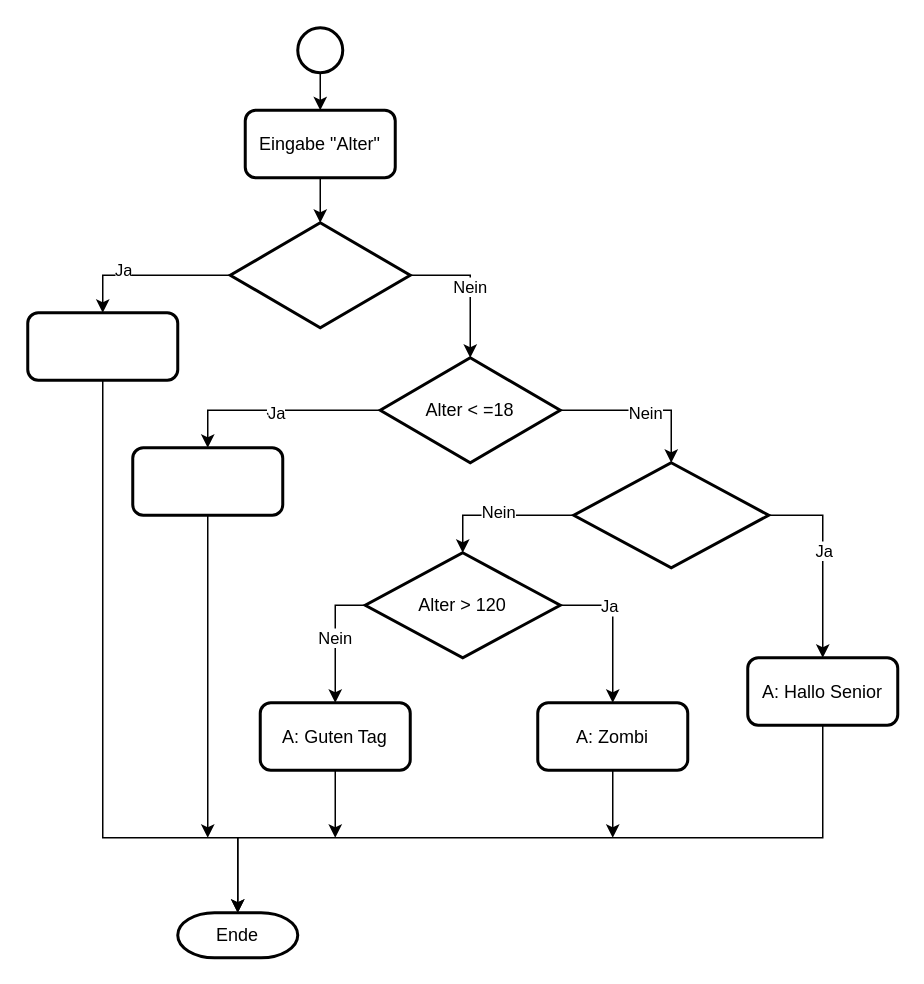
The diagram is 924 pixels wide and 984 high, and some of its shapes have lost their labels. The shapes that lost their labels are listed below. From the top down, each one's box as (x1, y1, x2, y2) in pixels, then its label:
(228, 220, 411, 328): 18 <= Alter <= 20
(26, 310, 178, 381): A: Grown Up
(130, 446, 284, 516): A: Jahre bis 18
(572, 460, 770, 568): 65 <= Alter <= 120
